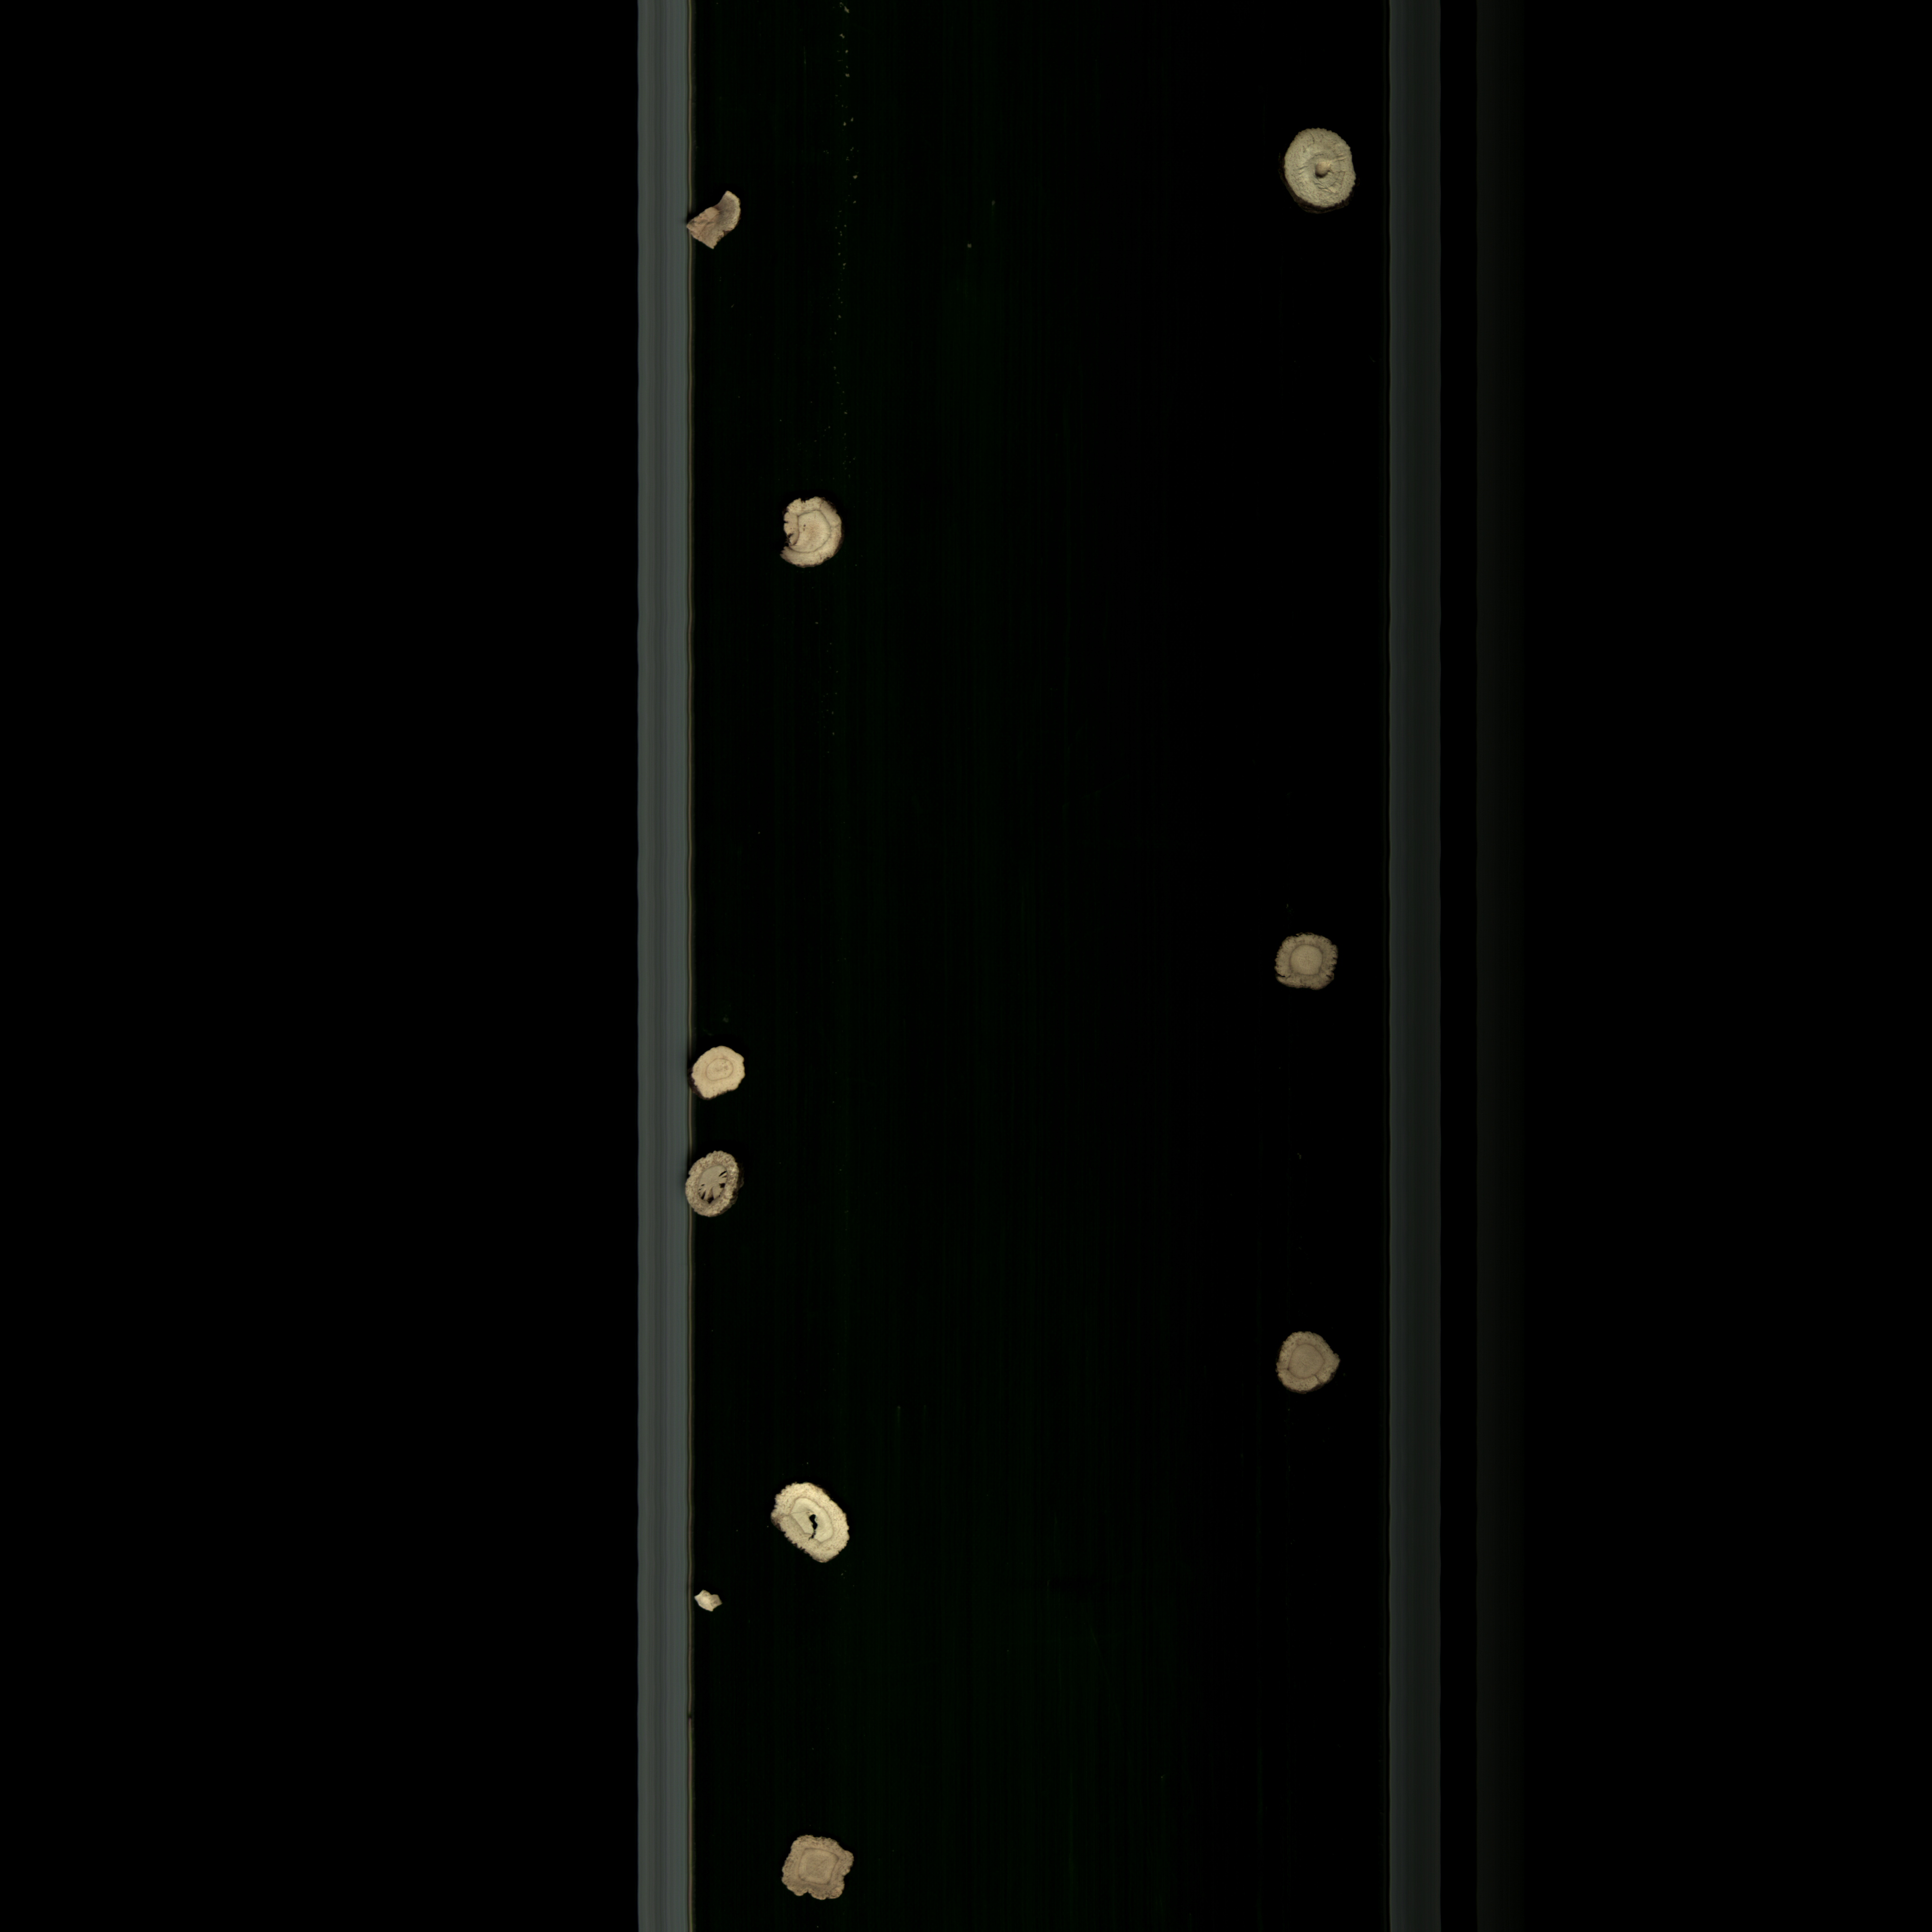distortion: (743, 1467, 870, 1575), (773, 494, 855, 580), (683, 1039, 763, 1111)
dreg: (690, 1582, 731, 1621)
hole: (1267, 126, 1375, 232), (676, 1139, 754, 1224)
moldy: (771, 1819, 872, 1909), (1263, 1315, 1345, 1414), (669, 177, 755, 267), (1258, 920, 1352, 1003)
